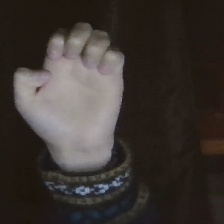E: (6, 15, 135, 156)
